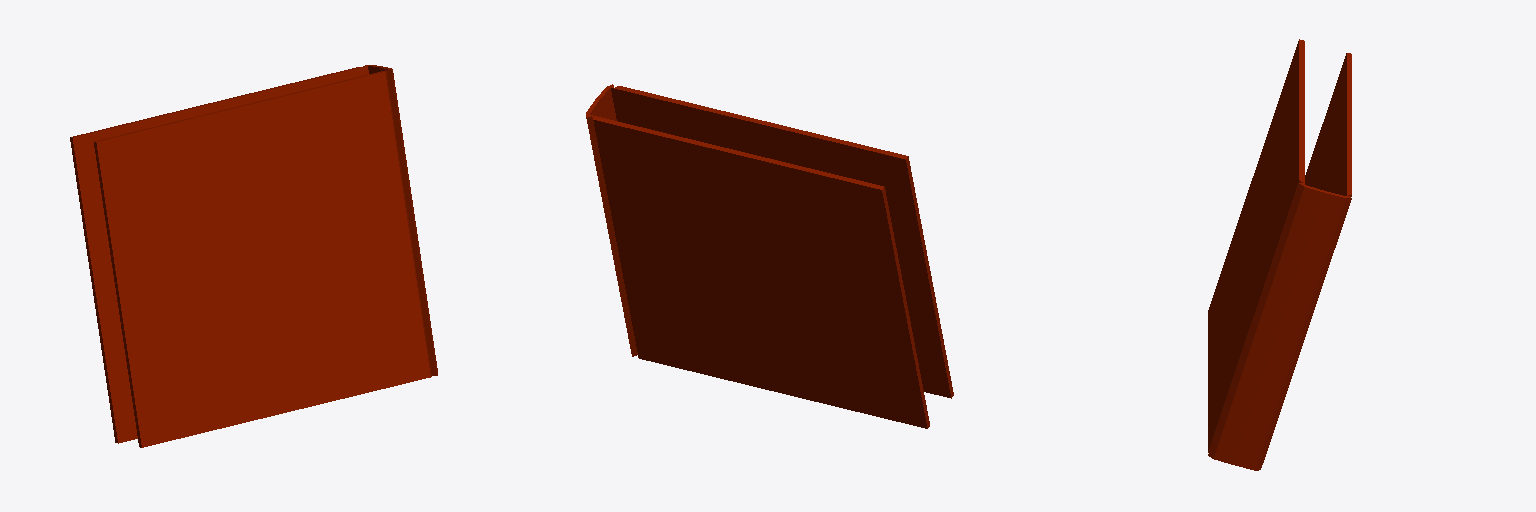
The model's file is book.obj.
3 renders of one model, left to right at view 1: azimuth 30°, elevation 25°; view 2: azimuth 150°, elevation 25°; view 3: azimuth 270°, elevation 25°, orthographic.
Visible parts, largest first — view 1: book.042_book.040; view 2: book.042_book.040; view 3: book.042_book.040.
Boxes of the visible parts, x1,y1,x2,y2 form: book.042_book.040: [70, 65, 437, 447]; book.042_book.040: [586, 84, 953, 428]; book.042_book.040: [1208, 39, 1351, 470].
Size of the model in its own units: 0.0409 by 0.0374 by 0.017.